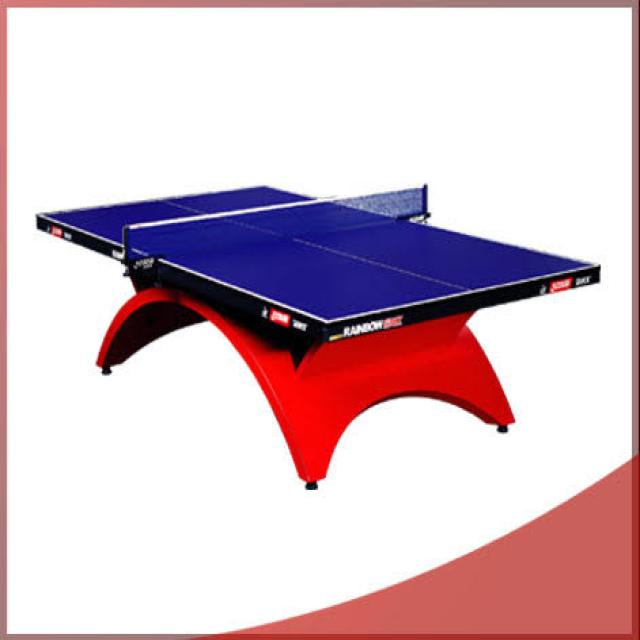TT Net: (119, 183, 431, 268)
TT Table: (38, 184, 598, 323)
